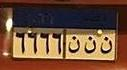6: (40, 32, 51, 54), (27, 32, 38, 54), (52, 32, 62, 55), (16, 31, 26, 54)
noon: (99, 34, 113, 53), (67, 34, 81, 53), (84, 34, 97, 54)
